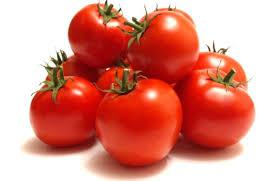tomato: (96, 77, 184, 165), (179, 70, 255, 150), (32, 77, 102, 145), (132, 11, 198, 82), (68, 4, 129, 65), (190, 48, 249, 89), (47, 55, 97, 89)
